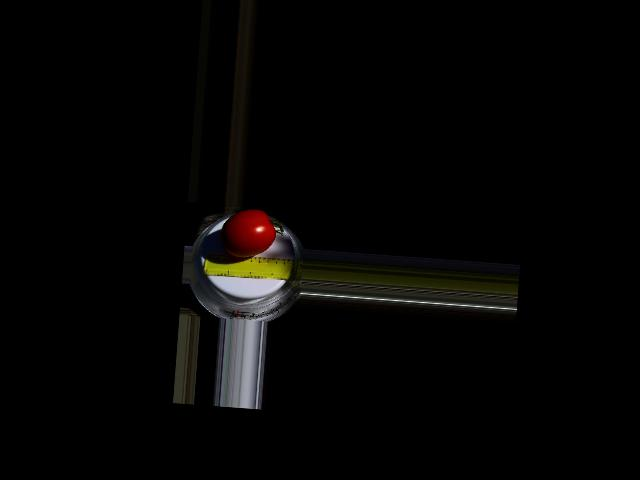tomato: (219, 206, 278, 260)
